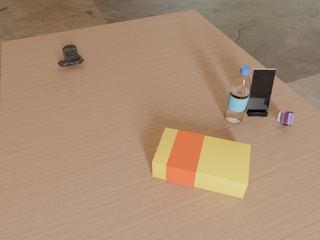bottle: (225, 65, 251, 123)
box: (152, 128, 250, 198)
mouse: (58, 45, 84, 67)
phone: (247, 69, 276, 112)
toy_car: (277, 112, 294, 126)
